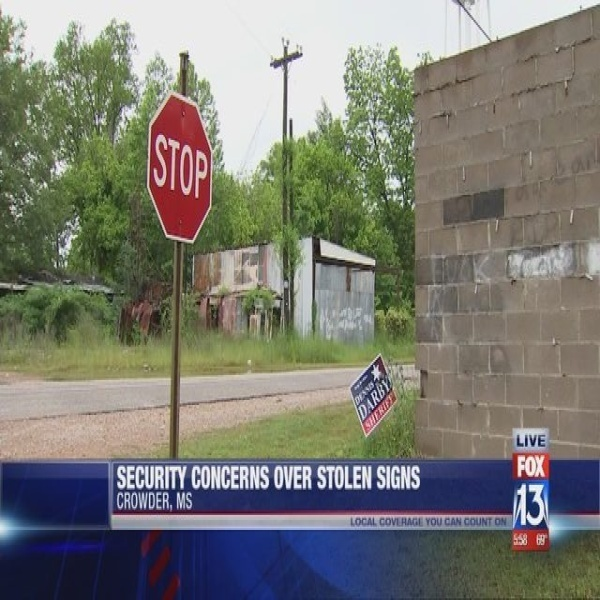stop: (146, 94, 214, 246)
